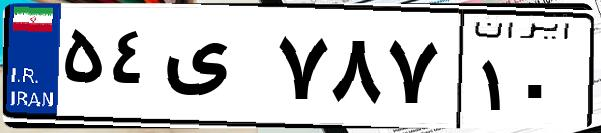0: (525, 38, 570, 115)
1: (475, 38, 525, 113)
4: (110, 28, 158, 98)
5: (57, 26, 110, 100)
7: (270, 28, 330, 110), (385, 28, 445, 110)
8: (330, 28, 385, 110)
ی: (158, 20, 270, 120)
